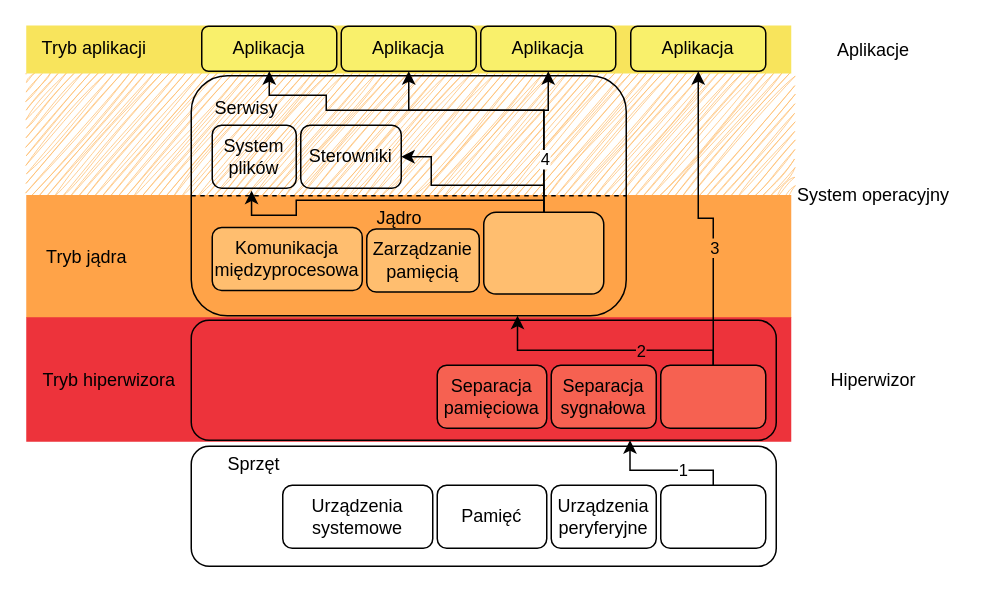
This 981x593 diagram has some shape labels left out. Here are the shapes that lost their labels. From the top down, the box of each, then its label:
(482, 211, 604, 294): Zarządzanie jednostką obliczeniową
(659, 364, 766, 428): Separacja stanów
(659, 484, 766, 548): Jednostka obliczeniowa
